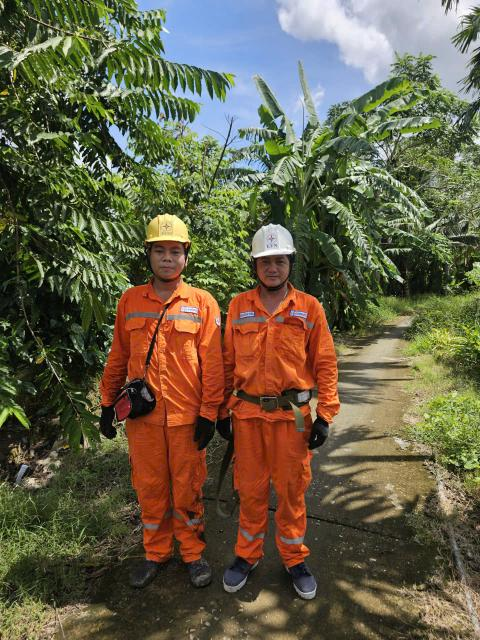gloves: (289, 415, 335, 453), (94, 394, 124, 444), (189, 415, 214, 451), (214, 411, 237, 439)
harness: (232, 372, 321, 433)
helmet: (140, 201, 195, 249), (243, 220, 300, 262)
shoes: (280, 547, 329, 603), (117, 548, 166, 598), (218, 545, 264, 597), (174, 546, 209, 589)
